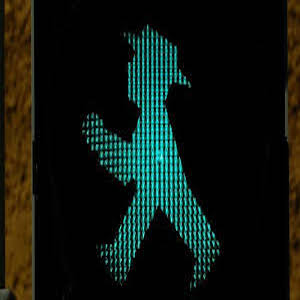green: (70, 22, 225, 274)
